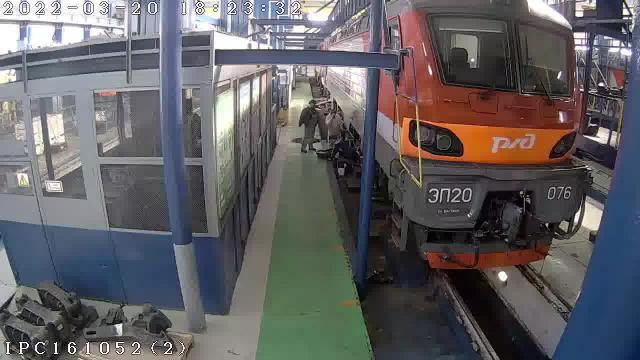person: (299, 100, 318, 152), (326, 107, 341, 138), (318, 114, 328, 150)
train: (376, 0, 591, 268)
